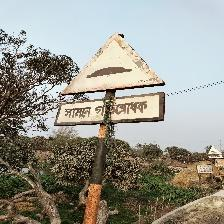Speed-breaker: (58, 32, 167, 126)
